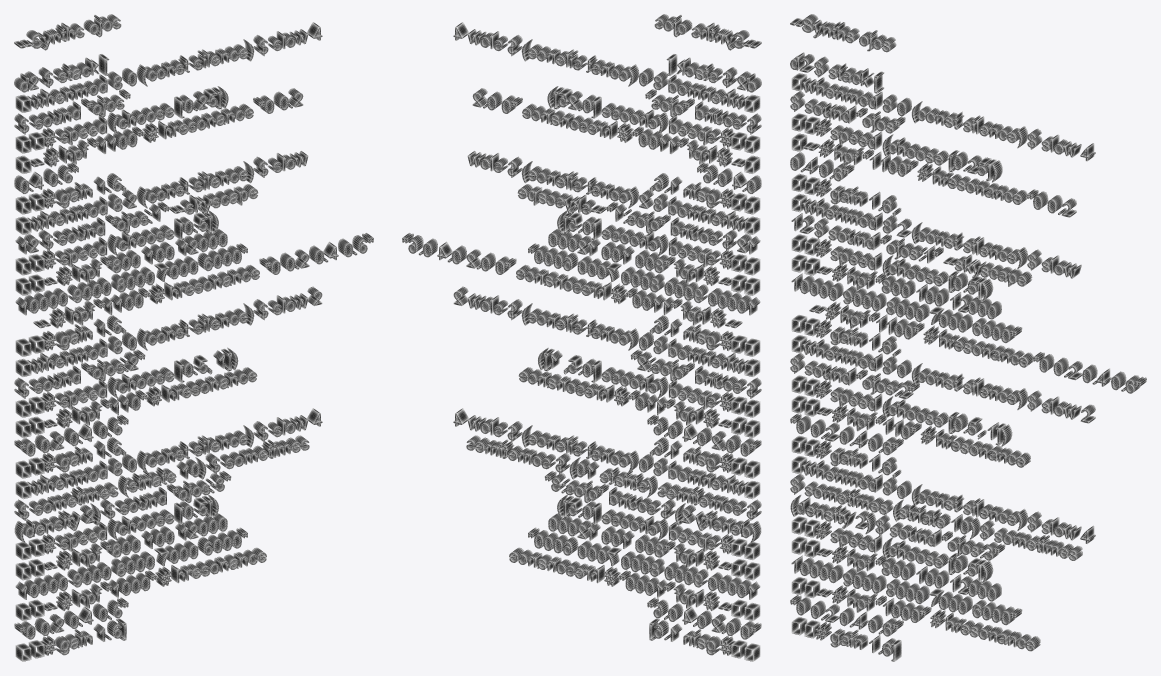
The picture shows the model from 3 angles, left to right: view 1: azimuth 30°, elevation 25°; view 2: azimuth 150°, elevation 25°; view 3: azimuth 330°, elevation 25°; orthographic projection.
Parts seen in each view (by area): view 1: Object_2, Object_4, Object_3, Object_5; view 2: Object_2, Object_4, Object_3, Object_5; view 3: Object_2, Object_4, Object_3, Object_5.
Part boxes in pixels (x1,y1,x2,y2): Object_2: (14, 16, 366, 661); Object_4: (14, 14, 373, 661); Object_3: (14, 14, 373, 655); Object_5: (14, 28, 307, 646); Object_2: (409, 16, 761, 661); Object_4: (402, 14, 761, 661); Object_3: (402, 14, 759, 655); Object_5: (468, 28, 761, 645); Object_2: (791, 19, 1139, 655); Object_4: (790, 14, 1146, 661); Object_3: (790, 19, 1145, 661); Object_5: (790, 22, 1082, 649).
Bounding box in the file's own units: 0.5161 × 0.8759 × 0.018.
Materials: 1 (1 with a texture image).
